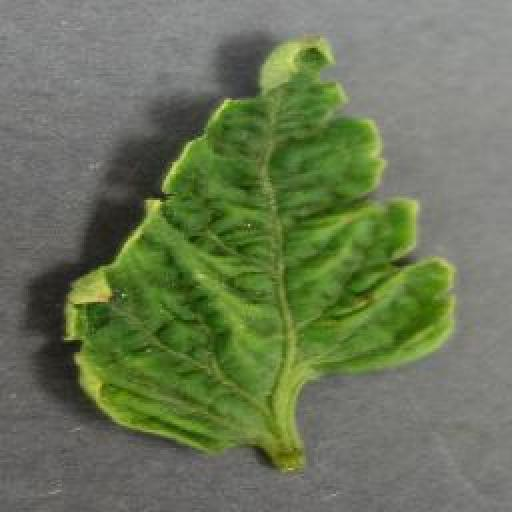disease_tomato: (63, 35, 458, 449)
